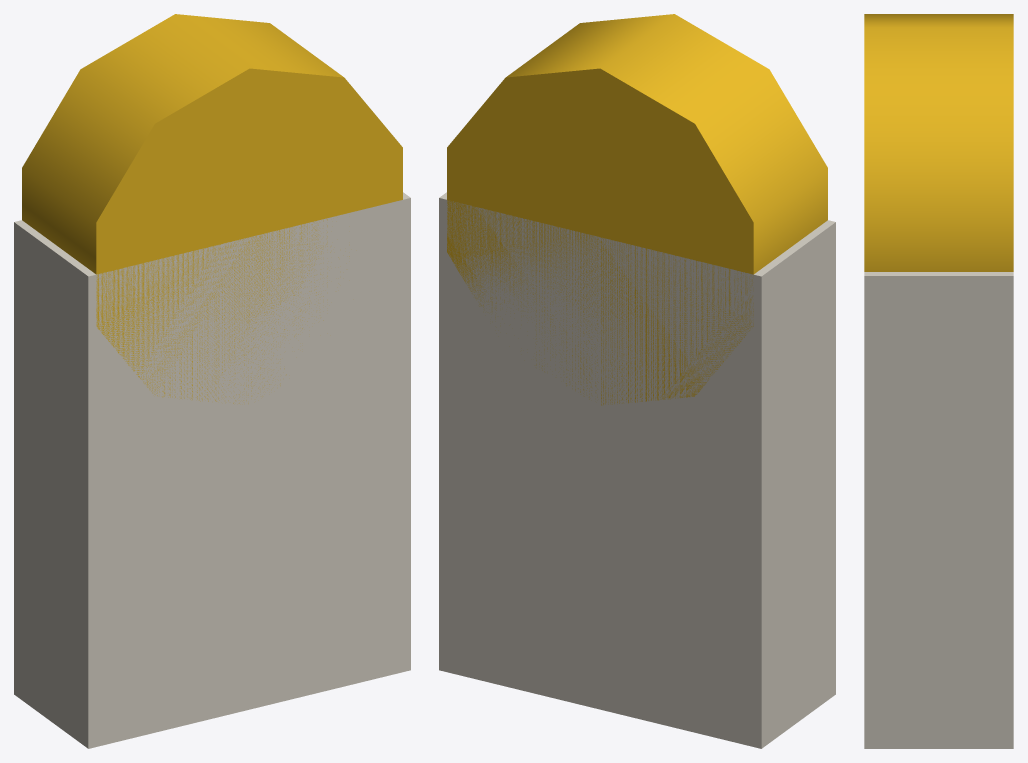
The model's file is milestone.glb.
The picture shows the model from 3 angles, left to right: view 1: azimuth 30°, elevation 25°; view 2: azimuth 150°, elevation 25°; view 3: azimuth 270°, elevation 25°; orthographic projection.
Parts seen in each view (by area): view 1: milestone; view 2: milestone; view 3: milestone.
Boxes of the visible parts, x1,y1,x2,y2 form: milestone: (14,14,410,748); milestone: (439,14,835,748); milestone: (864,14,1013,748).
Size of the model in its own units: 0.5 by 0.95 by 0.1999.
